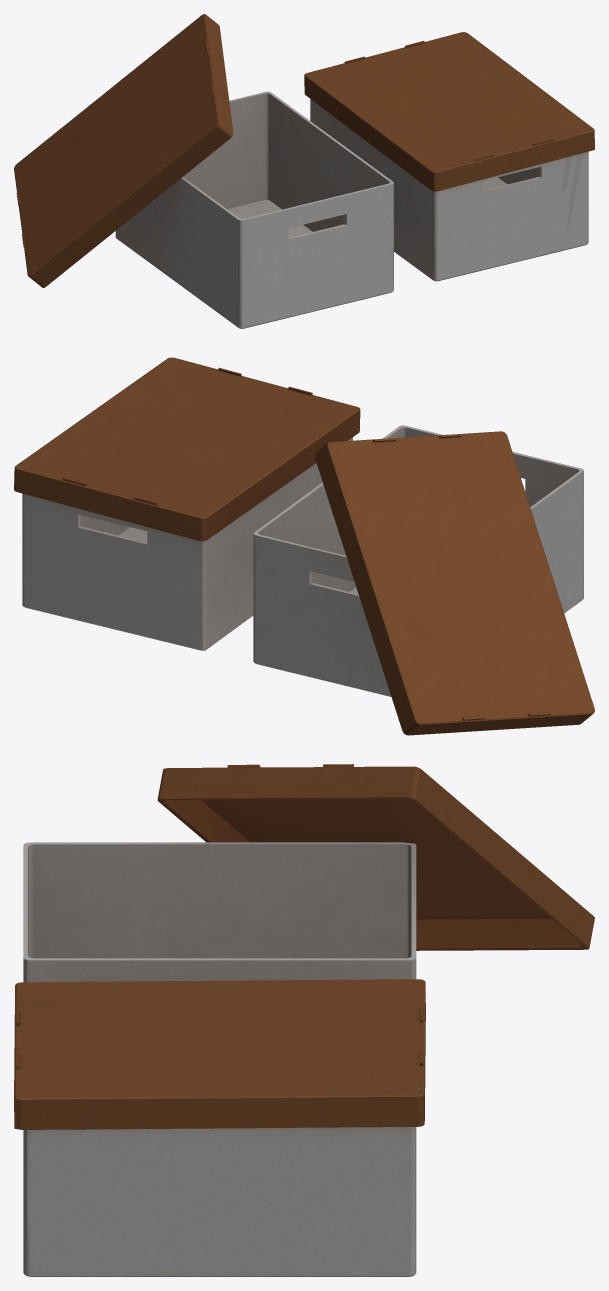
Rendered from open_closed_office_box.glb.
The picture shows the model from 3 angles, top to bottom: view 1: azimuth 30°, elevation 25°; view 2: azimuth 150°, elevation 25°; view 3: azimuth 270°, elevation 25°; orthographic projection. The views are drawn at different scales.
Parts seen in each view (by area): view 1: pCube4, pCube2, pCube1; view 2: pCube4, pCube1, pCube2; view 3: pCube4, pCube2, pCube1.
Boxes of the visible parts, x1,y1,x2,y2 form: pCube4: (304,32,594,281); pCube2: (115,91,393,328); pCube1: (14,14,233,287); pCube4: (14,357,360,650); pCube1: (315,431,594,735); pCube2: (253,425,583,696); pCube4: (14,979,425,1276); pCube2: (23,842,416,982); pCube1: (157,764,594,950).
Size of the model in its own units: 0.2638 by 0.1139 by 0.184.
2 materials, 2 textured.
